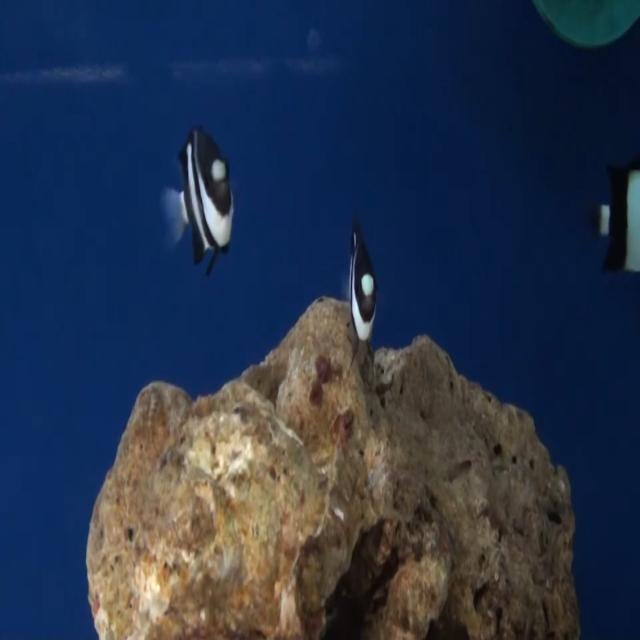ThreeStripedDamselfish: (164, 126, 235, 276), (350, 216, 378, 345)
